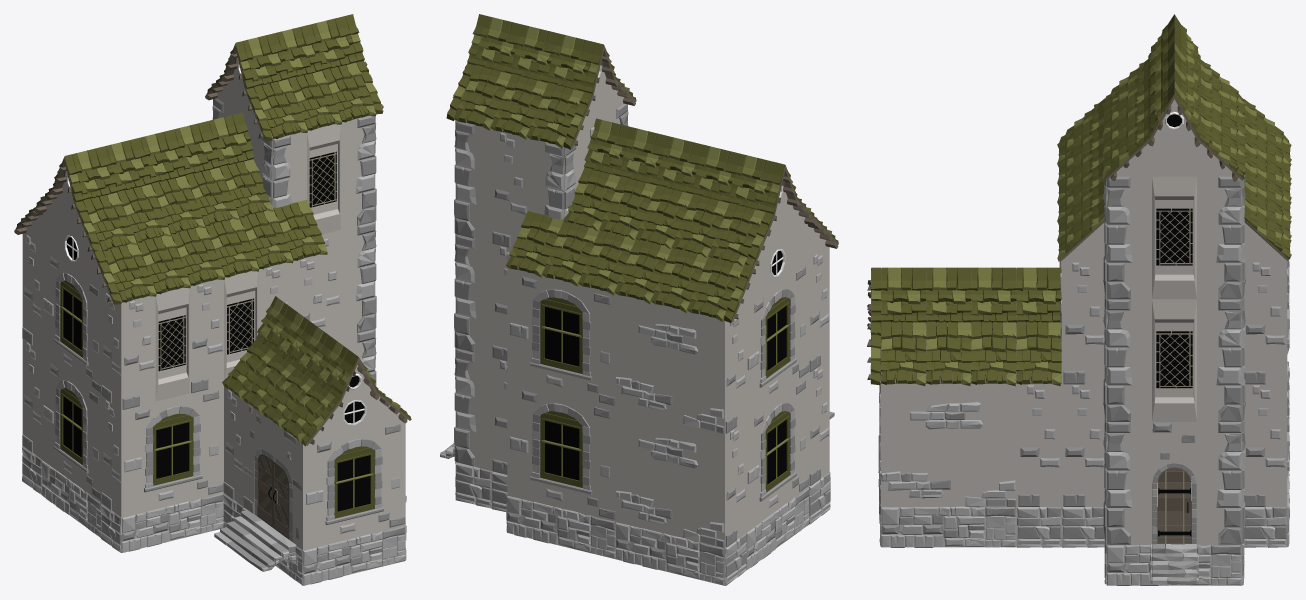
The model's file is House_05.glb.
3 renders of one model, left to right at view 1: azimuth 30°, elevation 25°; view 2: azimuth 150°, elevation 25°; view 3: azimuth 270°, elevation 25°, orthographic. The views are drawn at different scales.
Parts seen in each view (by area): view 1: WINDOW_05_12, WINDOW_05_13, DOOR_02_2, WINDOW_05_14, WINDOW_05_15, WALL_07_3, WALL_06_8, FOUNDATION_03_2, FOUNDATION_03_5, WALL_07_4, WINDOW_04_2, WALL_06_9 (+61 smaller); view 2: WINDOW_05_17, WINDOW_05_16, WALL_03_3, WALL_03_4, WINDOW_05_14, WINDOW_05_15, WALL_05_8, WALL_05_7, FOUNDATION_03_8, FOUNDATION_03_7, WALL_05_6, WALL_06_18 (+46 smaller); view 3: WALL_03_2, FOUNDATION_03_3, WALL_06_3, WALL_05_5, WALL_07_5, WALL_05_4, WALL_07_6, WALL_07_7, WALL_05_2, WINDOW_04_5, WINDOW_04_6, DOOR_01_2 (+49 smaller).
Part boxes in pixels (bbox=[...]): WINDOW_05_12: bbox=[121, 385, 223, 516]; WINDOW_05_13: bbox=[303, 419, 405, 549]; DOOR_02_2: bbox=[243, 401, 304, 549]; WINDOW_05_14: bbox=[42, 352, 101, 502]; WINDOW_05_15: bbox=[42, 245, 101, 394]; WALL_07_3: bbox=[341, 221, 375, 336]; WALL_06_8: bbox=[121, 296, 155, 409]; FOUNDATION_03_2: bbox=[303, 525, 405, 585]; FOUNDATION_03_5: bbox=[121, 492, 223, 552]; WALL_07_4: bbox=[341, 115, 375, 229]; WINDOW_04_2: bbox=[155, 287, 189, 401]; WALL_06_9: bbox=[190, 279, 223, 393]; WINDOW_05_17: bbox=[507, 381, 616, 521]; WINDOW_05_16: bbox=[507, 267, 616, 407]; WALL_03_3: bbox=[616, 407, 725, 547]; WALL_03_4: bbox=[616, 294, 725, 433]; WINDOW_05_14: bbox=[746, 373, 808, 532]; WINDOW_05_15: bbox=[746, 259, 808, 418]; WALL_05_8: bbox=[455, 348, 491, 470]; WALL_05_7: bbox=[455, 234, 491, 356]; FOUNDATION_03_8: bbox=[507, 495, 616, 559]; FOUNDATION_03_7: bbox=[616, 521, 725, 585]; WALL_05_6: bbox=[455, 120, 491, 242]; WALL_06_18: bbox=[492, 129, 528, 247]; WALL_03_2: bbox=[881, 383, 1016, 506]; FOUNDATION_03_3: bbox=[881, 506, 1016, 547]; WALL_06_3: bbox=[1016, 383, 1061, 506]; WALL_05_5: bbox=[1106, 176, 1151, 299]; WALL_07_5: bbox=[1197, 176, 1242, 299]; WALL_05_4: bbox=[1106, 299, 1151, 421]; WALL_07_6: bbox=[1197, 299, 1242, 421]; WALL_07_7: bbox=[1197, 422, 1242, 544]; WALL_05_2: bbox=[1106, 422, 1151, 544]; WINDOW_04_5: bbox=[1152, 176, 1196, 299]; WINDOW_04_6: bbox=[1152, 299, 1196, 421]; DOOR_01_2: bbox=[1152, 422, 1196, 544].
Bounding box in the file's own units: 9.33 × 12.14 × 9.41.
Materials: 1 (1 with a texture image).
